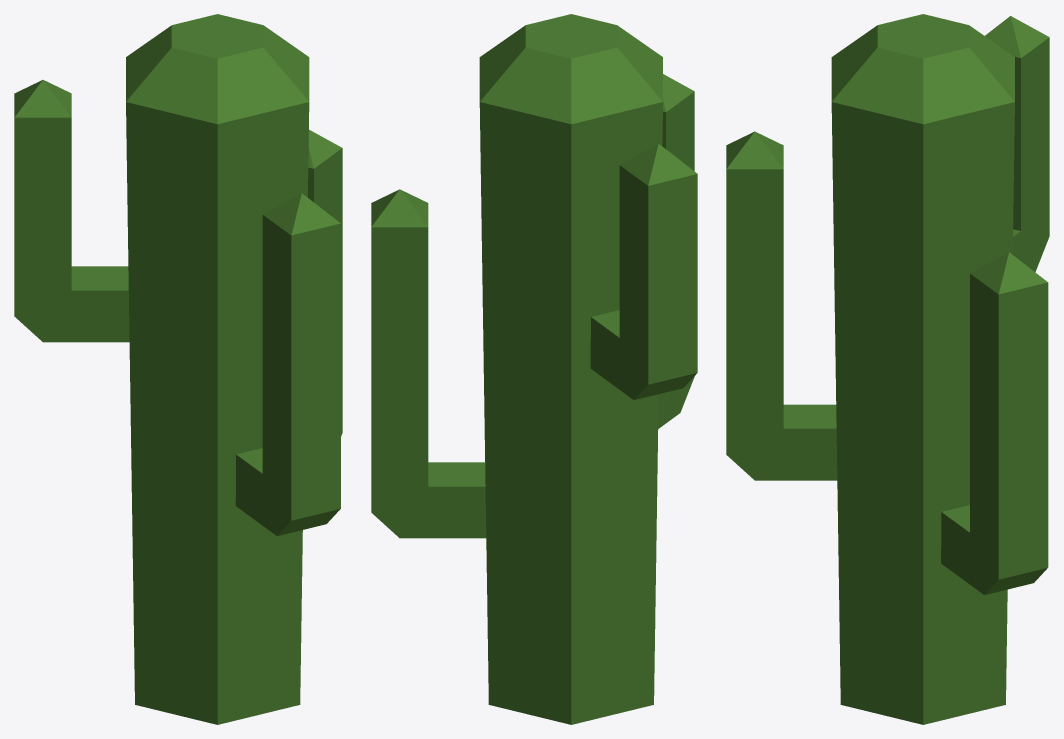
File: proto_cactus_tall.glb
The picture shows the model from 3 angles, left to right: view 1: azimuth 30°, elevation 25°; view 2: azimuth 150°, elevation 25°; view 3: azimuth 270°, elevation 25°; orthographic projection.
Visible parts, largest first — view 1: cactus_tall; view 2: cactus_tall; view 3: cactus_tall.
Part boxes in pixels (bbox=[...]): cactus_tall: bbox=[14, 14, 342, 724]; cactus_tall: bbox=[371, 14, 697, 724]; cactus_tall: bbox=[726, 14, 1049, 724].
Bounding box in the file's own units: 1.8 × 3.4 × 1.54.
